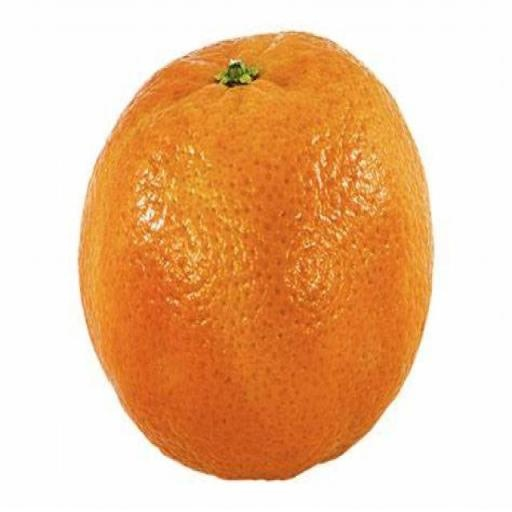fruit: (80, 33, 431, 478)
